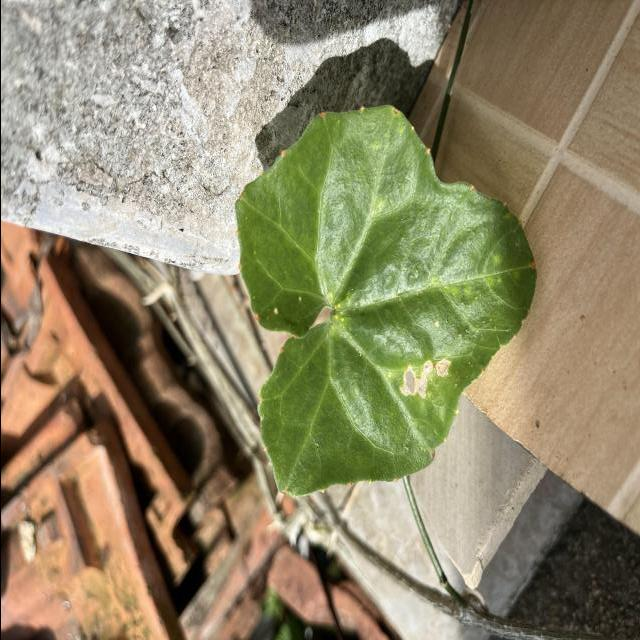Coccinia grandis: (231, 100, 538, 500)
